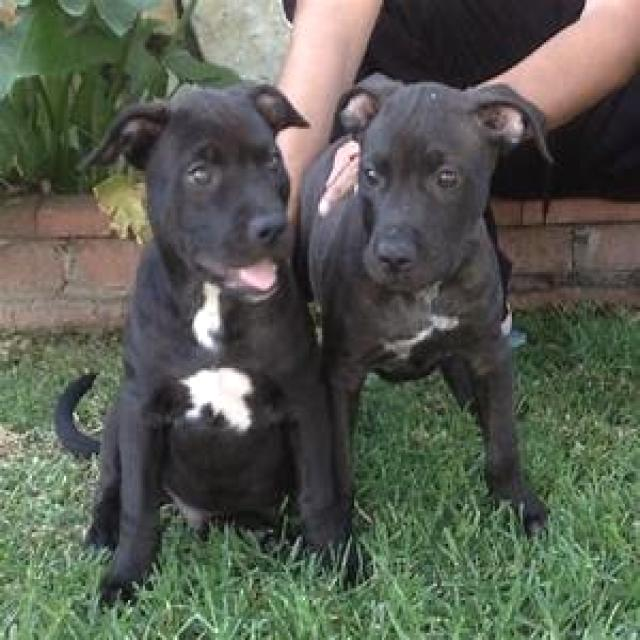KOPEK: (94, 80, 355, 577), (302, 48, 553, 532)
